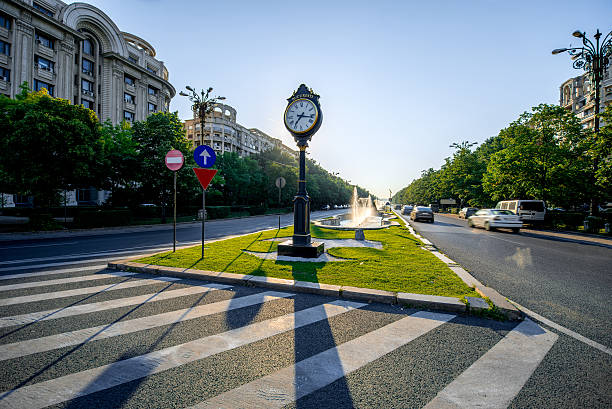Girilmez: (160, 149, 187, 174)
otomobil: (463, 197, 533, 236)
